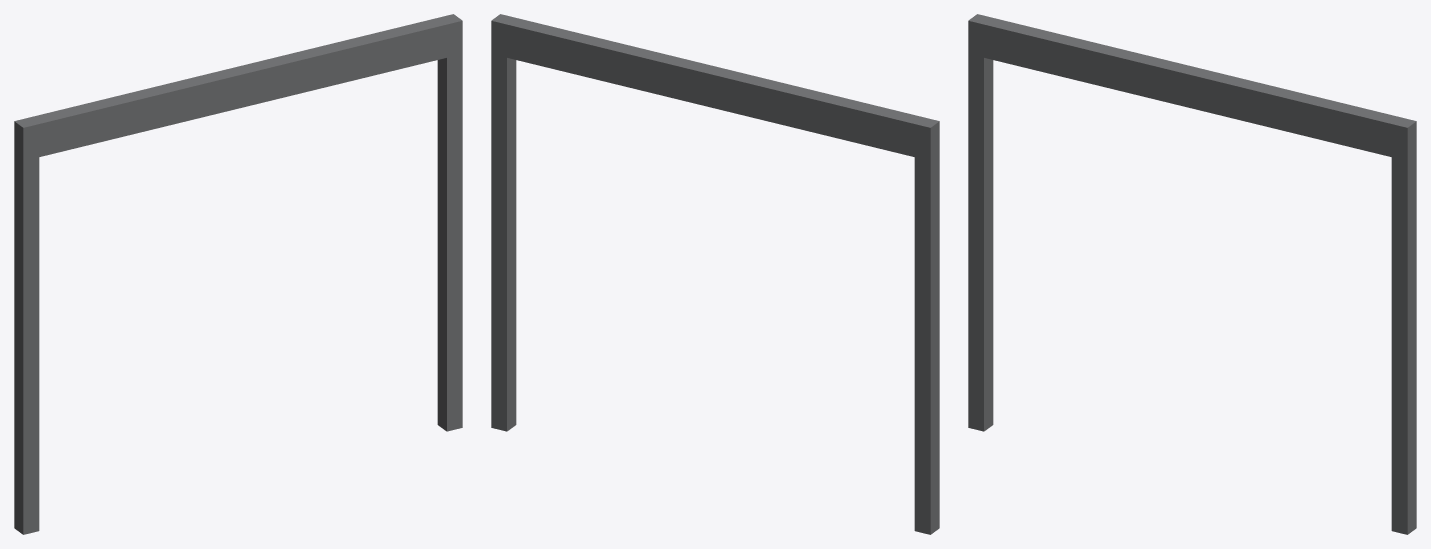
File: hyr-frame_h22-w27_matlightgrey.fbx
3 renders of one model, left to right at view 1: azimuth 30°, elevation 25°; view 2: azimuth 150°, elevation 25°; view 3: azimuth 330°, elevation 25°, orthographic.
Visible parts, largest first — view 1: hyr-frame_h22-w27_mat-r-grey; view 2: hyr-frame_h22-w27_mat-r-grey; view 3: hyr-frame_h22-w27_mat-r-grey.
Part boxes in pixels (x1,y1,x2,y2): hyr-frame_h22-w27_mat-r-grey: (14, 14, 462, 534); hyr-frame_h22-w27_mat-r-grey: (491, 14, 939, 534); hyr-frame_h22-w27_mat-r-grey: (968, 14, 1416, 534).
Bounding box in the file's own units: 277 × 245 × 10.
Materials: 1 (1 with a texture image).
